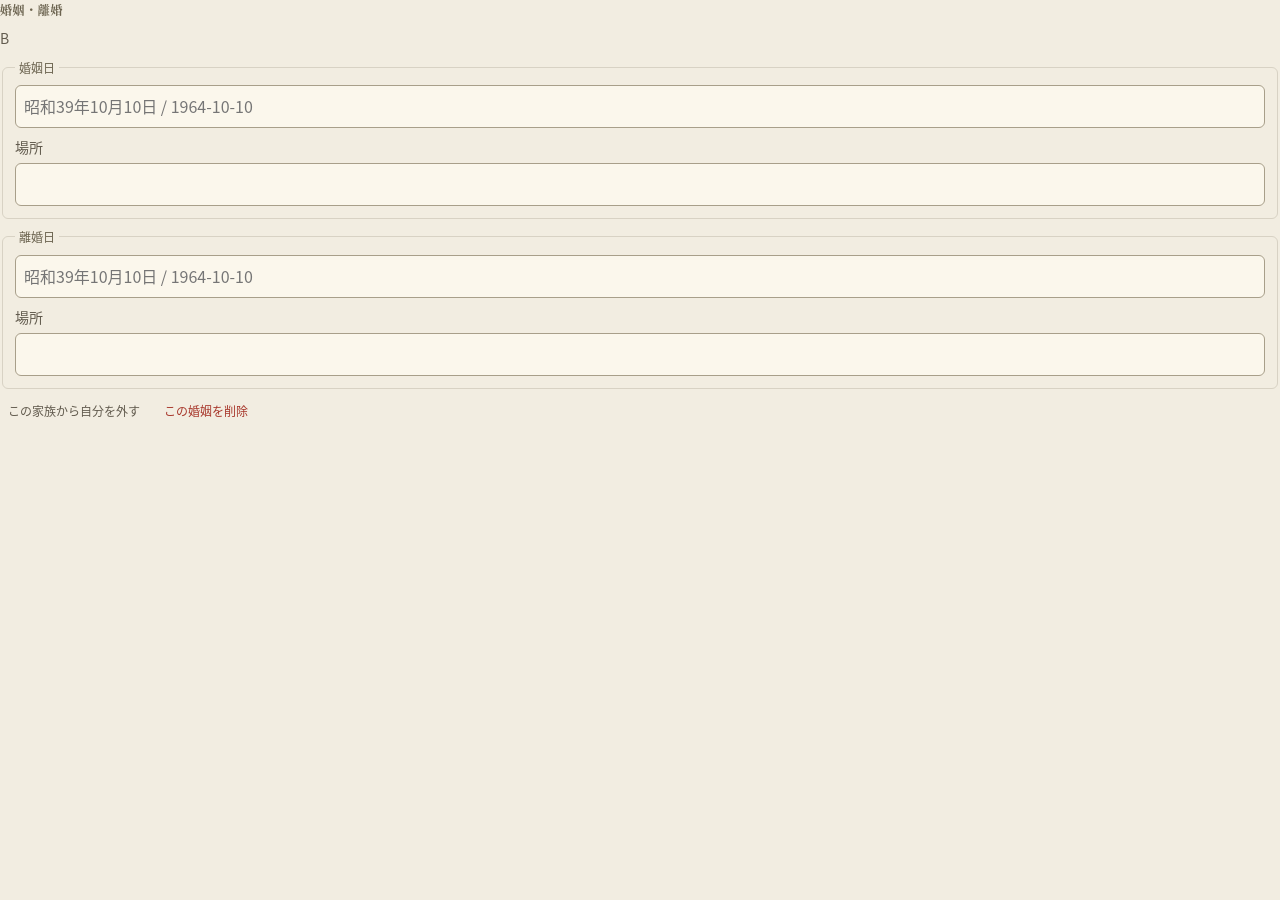
Test: FamilyEventEditor: 家族からの離脱 › 婚姻単位の削除と並存し、それぞれ別の確認ダイアログを開く
Expected: the button "この婚姻を削除" is shown, 156,397 -> 256,424
What coordinates should you click on to do the following:
click the button "この家族から自分を外す"
I would click on:
 (74, 411)
Its box is 0,397 -> 148,424.
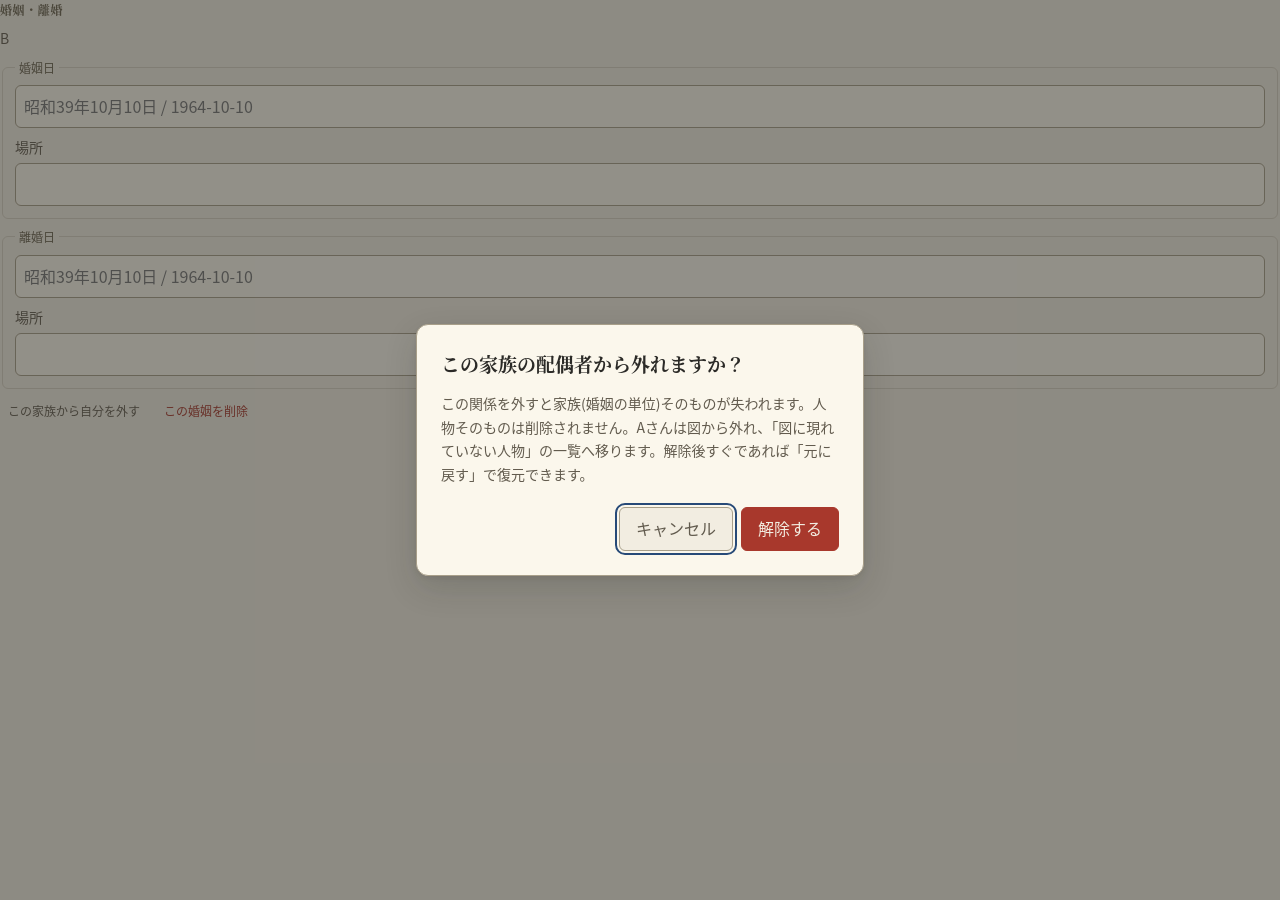
Result: the dialog shows "この家族の配偶者から外れますか？" at 441,350 -> 745,377
What coordinates should you click on to do the following:
click the button "キャンセル"
I would click on:
 (676, 529)
Its box is 619,507 -> 733,551.
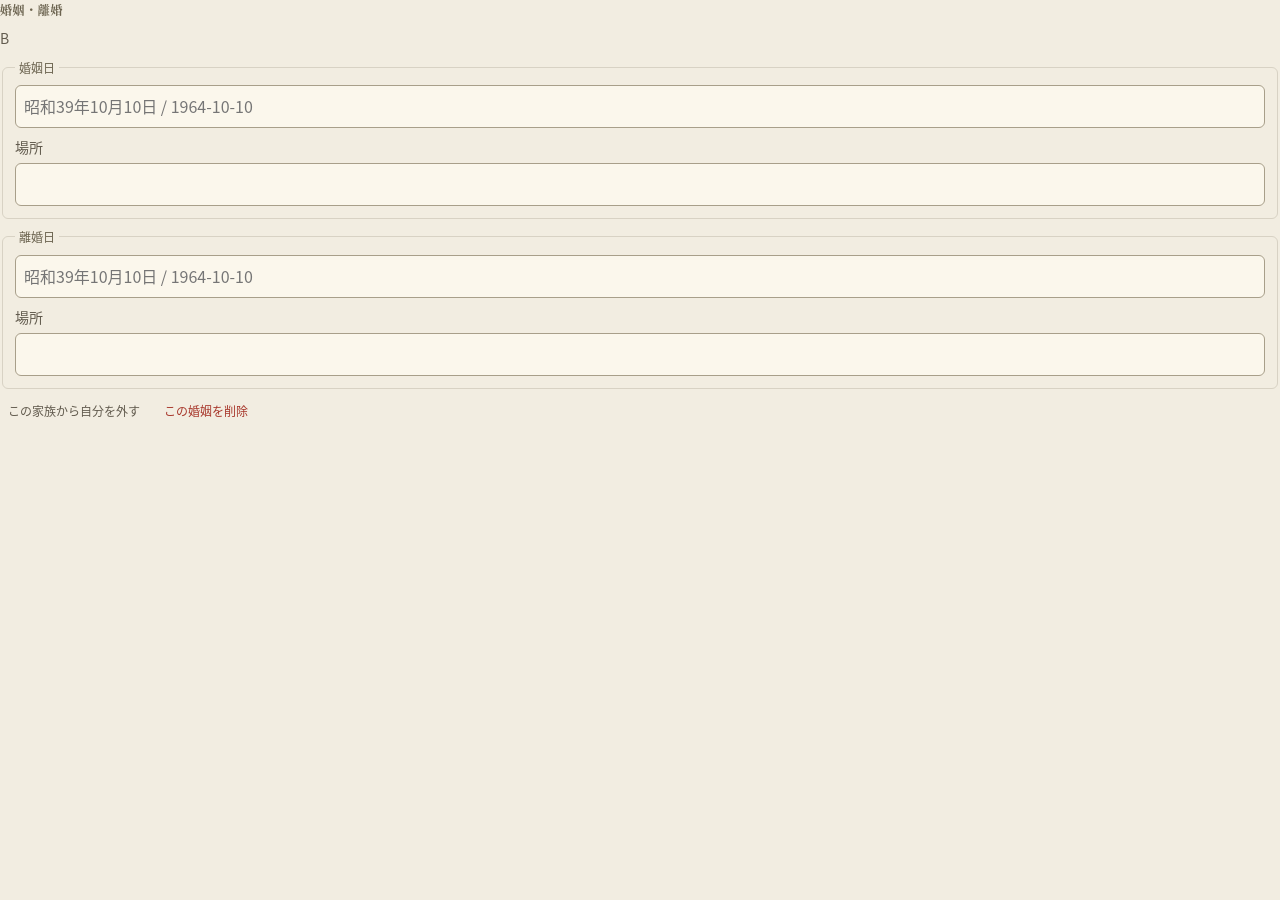
What coordinates should you click on to do the following:
click the button "この婚姻を削除"
I would click on:
 (206, 411)
Its box is 156,397 -> 256,424.
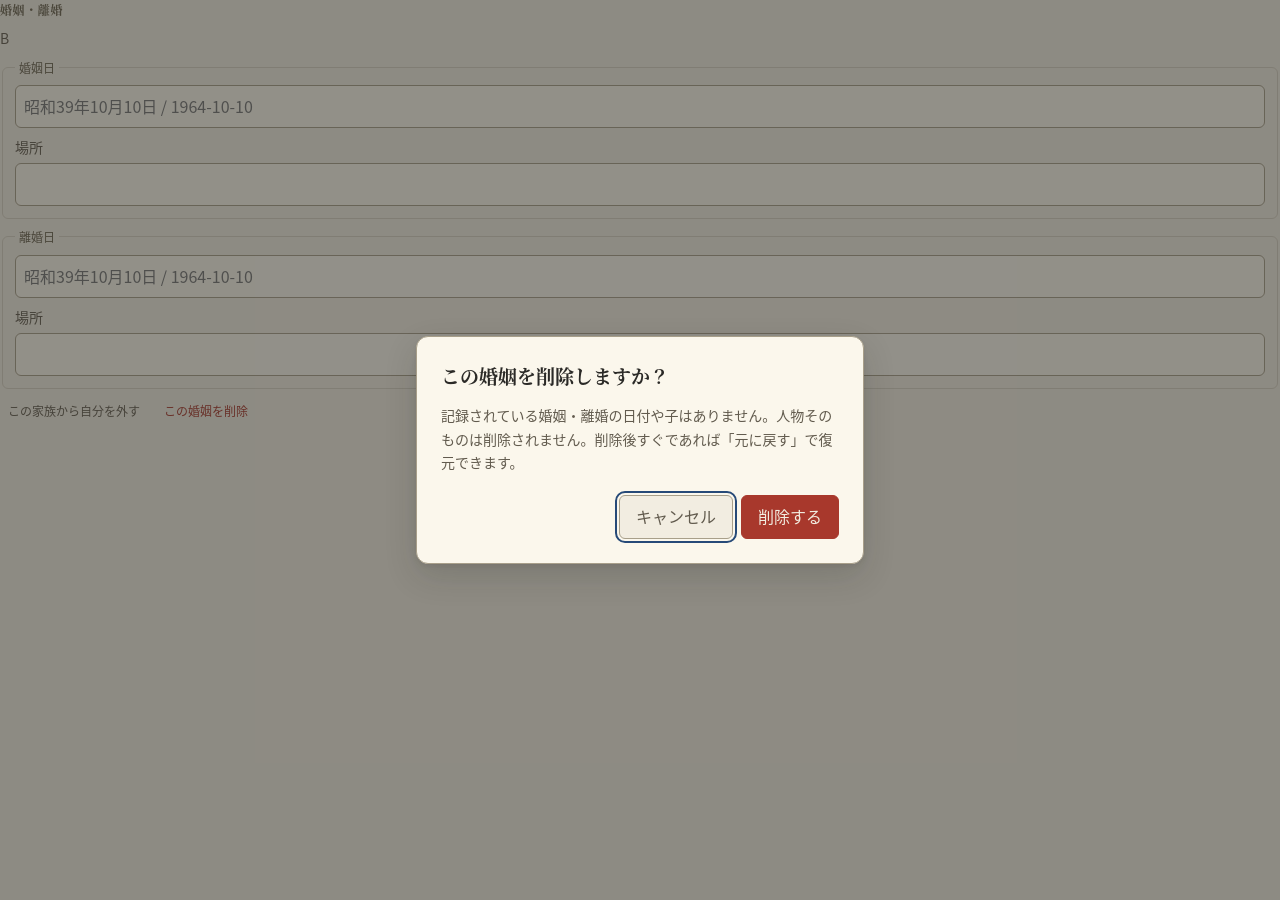
Result: the dialog shows "この婚姻を削除しますか？" at 441,362 -> 669,389
